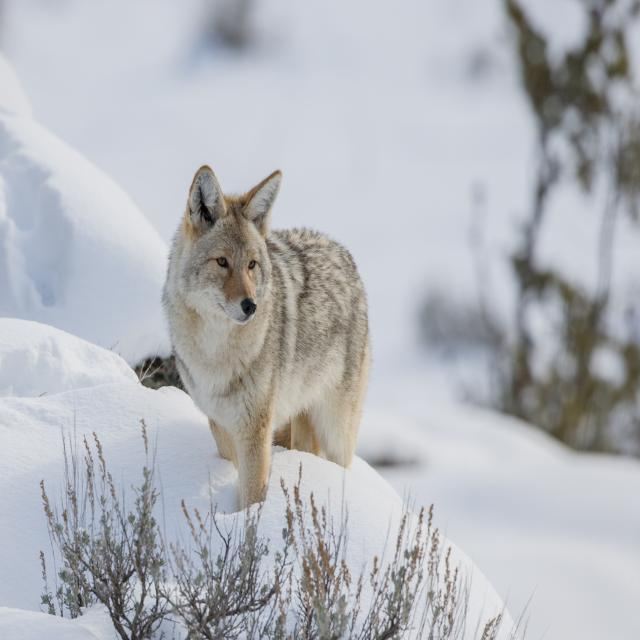Coyote: (160, 162, 366, 500)
